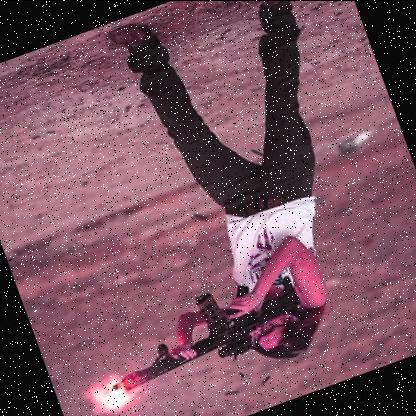rifle: (87, 258, 316, 411)
